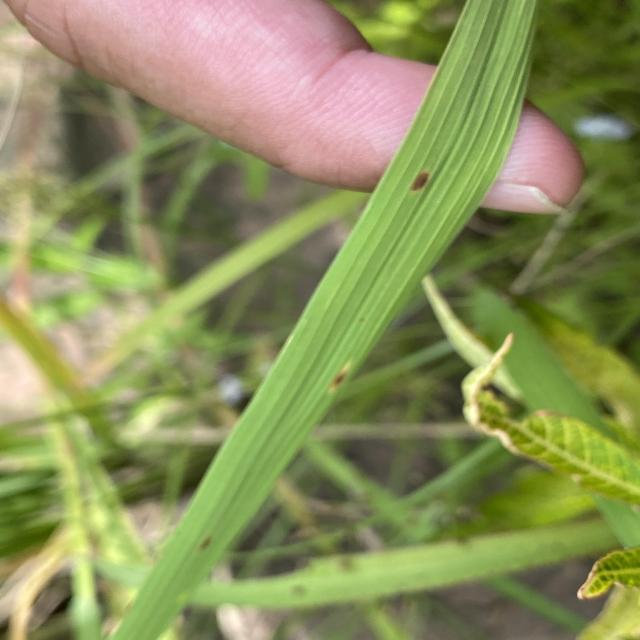Dom nau: (407, 169, 433, 193), (330, 362, 349, 392), (199, 534, 212, 551)
